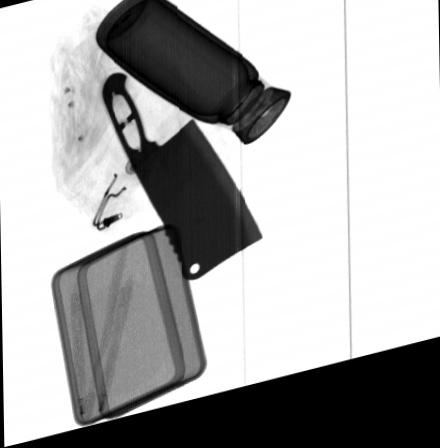Knife: (99, 76, 263, 290)
